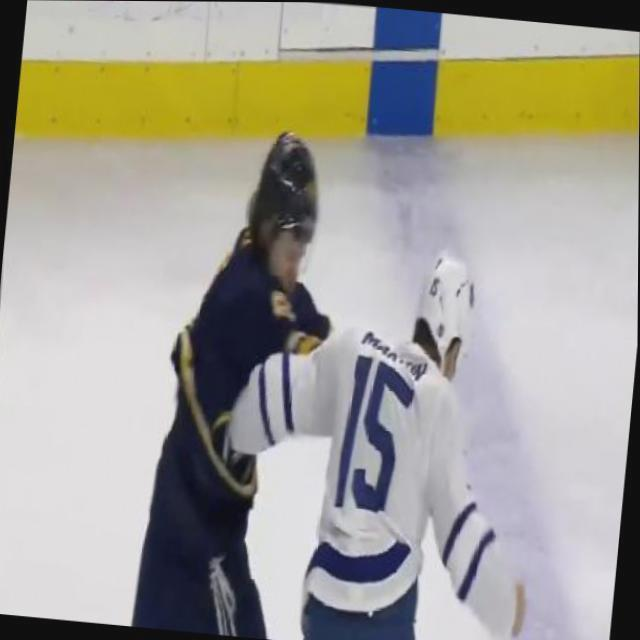fight: (122, 111, 568, 640)
